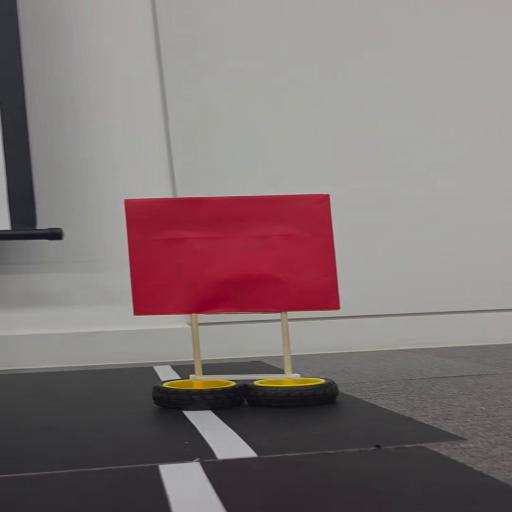Sign_A: (117, 185, 351, 407)
